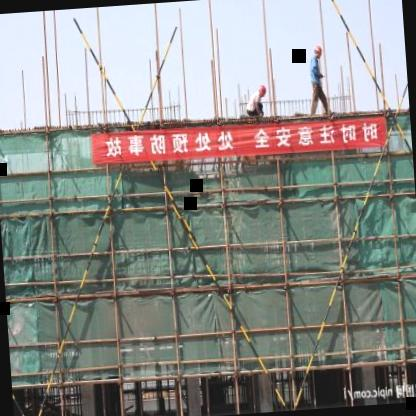helmet: (257, 82, 268, 98), (313, 44, 323, 61)
